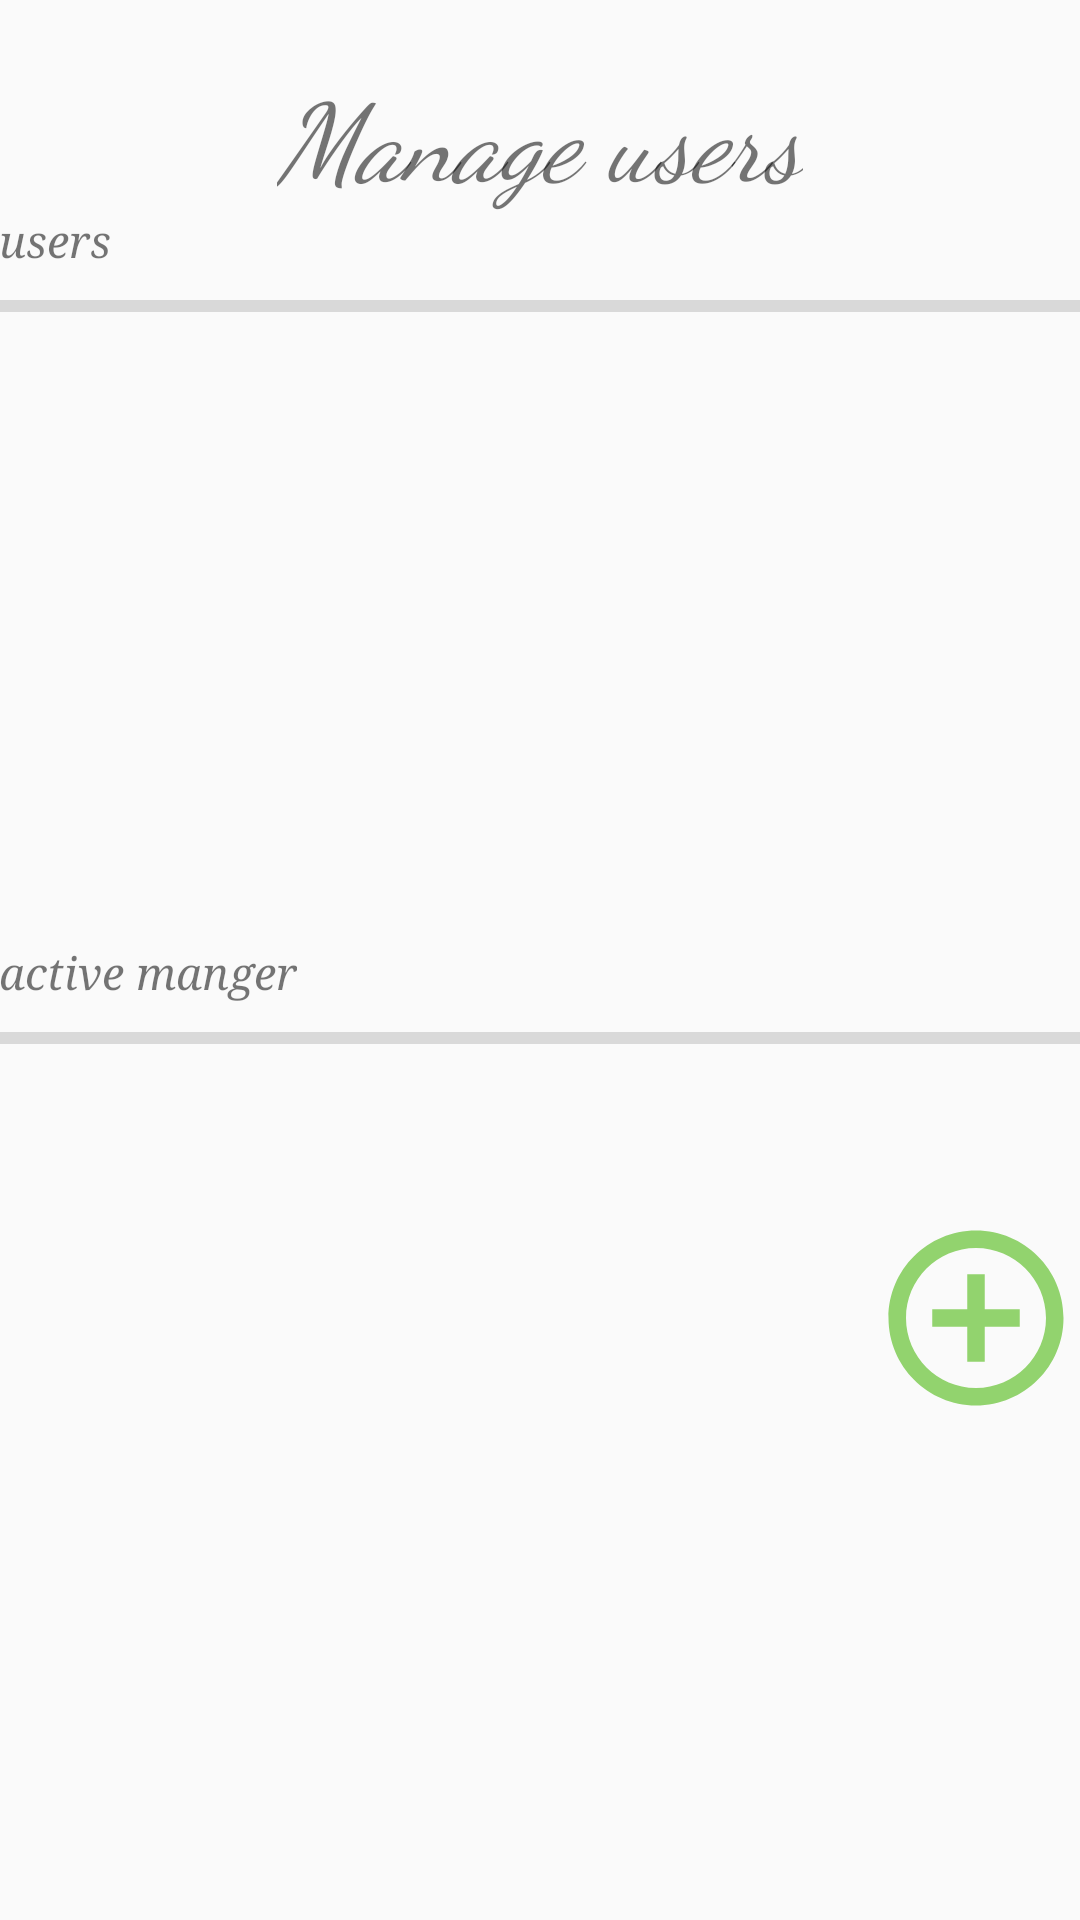

Where icons sit on this 1080 × 1920 app screen, as (x1, y1, x2, y2):
plus: (888, 1230, 1064, 1406)
